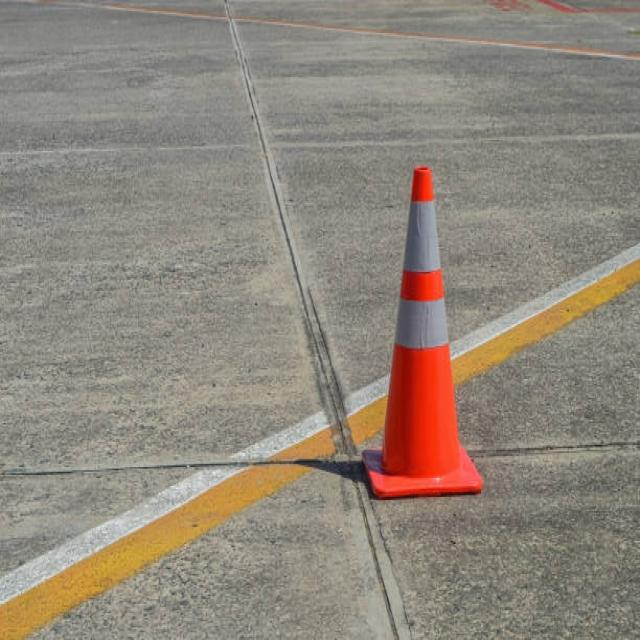Traffic Cone: (352, 138, 495, 519)
